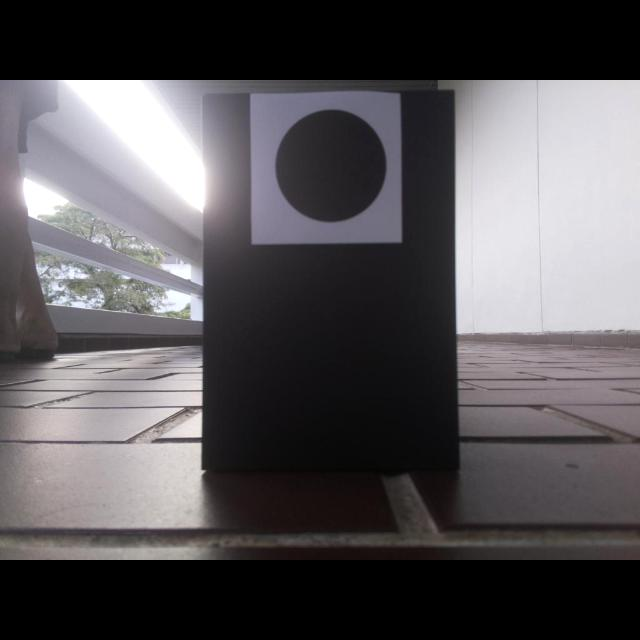CIRCLE: (272, 107, 390, 226)
